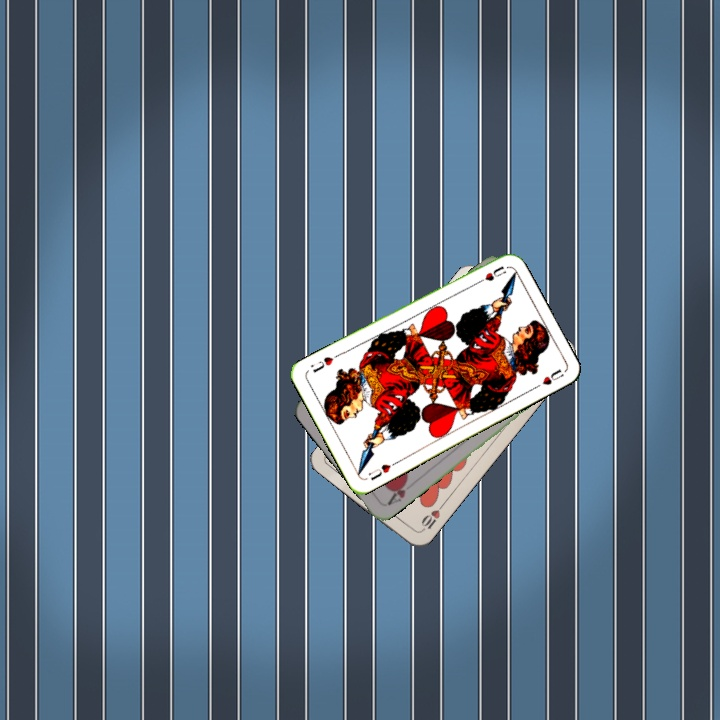H10: (416, 500, 446, 535)
HA: (383, 475, 411, 508)
HU: (471, 262, 509, 287), (364, 458, 400, 483)
